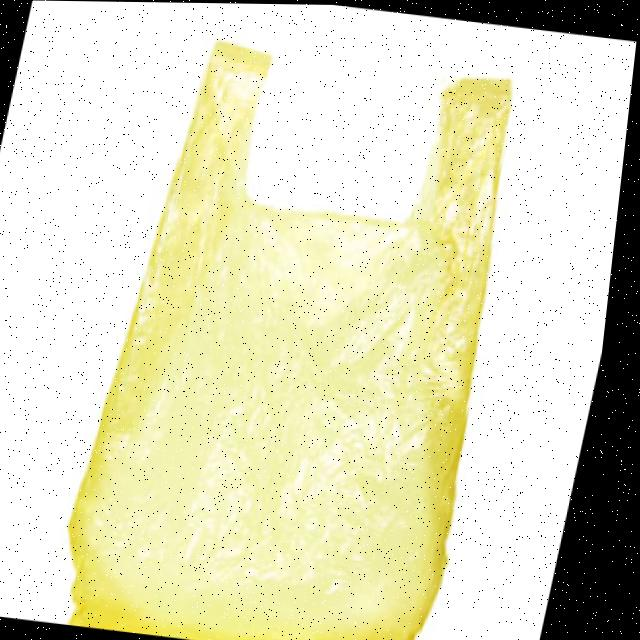plastic_bag: (46, 12, 581, 640)
